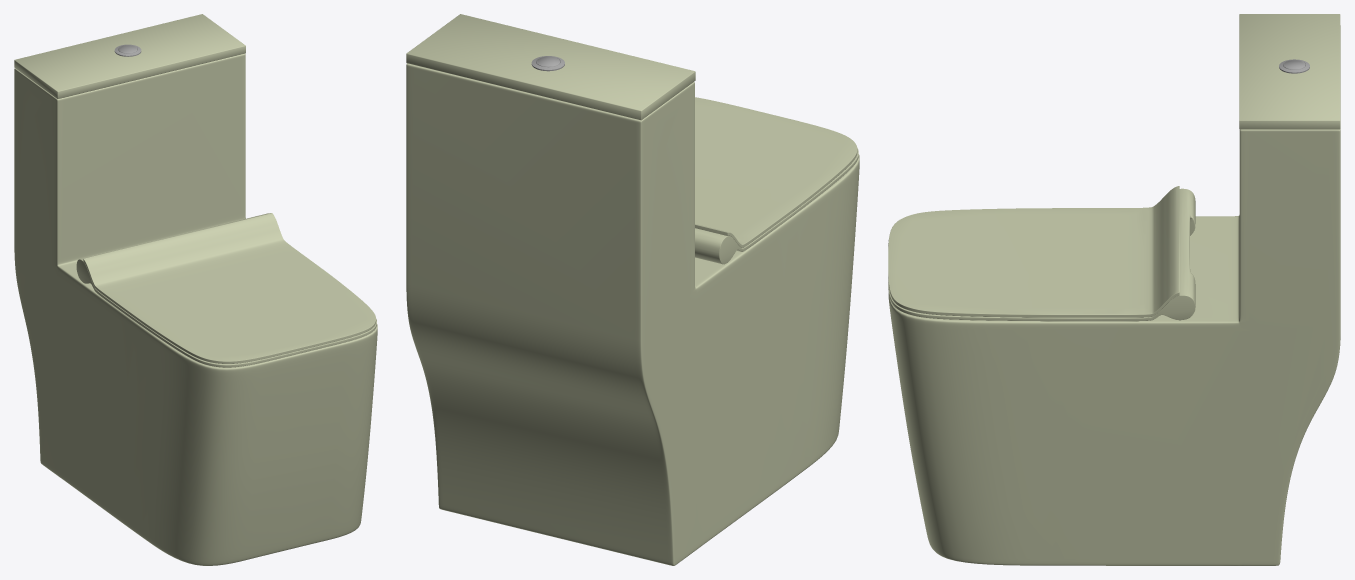
3 renders of one model, left to right at view 1: azimuth 30°, elevation 25°; view 2: azimuth 150°, elevation 25°; view 3: azimuth 270°, elevation 25°, orthographic. The views are drawn at different scales.
Visible parts, largest first — view 1: Plane039, Rectangle042, Rectangle040, Rectangle041; view 2: Plane039, Rectangle042, Rectangle040, Rectangle041; view 3: Plane039, Rectangle042, Rectangle040, Rectangle041.
Boxes of the visible parts, <box> form: Plane039: <box>14,53,377,565</box>; Rectangle042: <box>83,213,376,363</box>; Rectangle040: <box>14,14,245,98</box>; Rectangle041: <box>76,213,376,367</box>; Plane039: <box>406,63,859,565</box>; Rectangle042: <box>695,97,857,247</box>; Rectangle040: <box>406,14,695,120</box>; Rectangle041: <box>695,148,858,264</box>; Plane039: <box>888,25,1340,565</box>; Rectangle042: <box>888,186,1179,317</box>; Rectangle040: <box>1239,14,1340,129</box>; Rectangle041: <box>888,188,1195,321</box>.
Size of the model in its own units: 0.3758 by 0.7344 by 0.6717.
